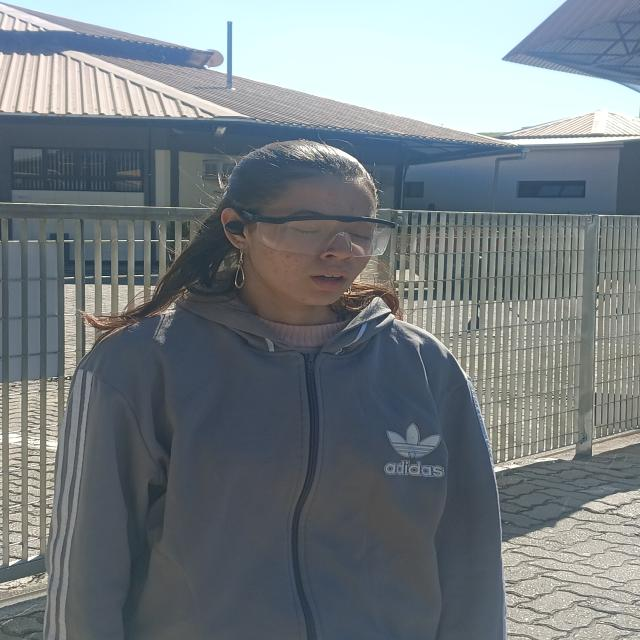oculos-epi: (242, 211, 395, 257)
